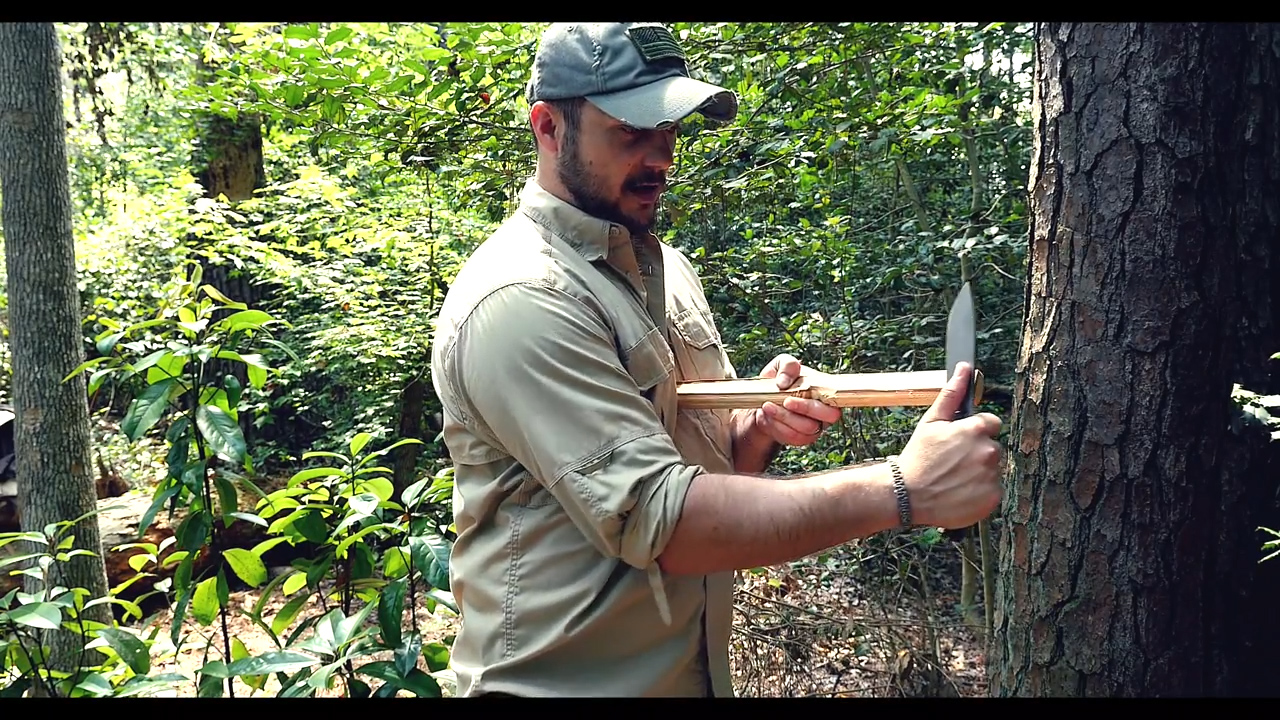knife: (919, 275, 1013, 515)
